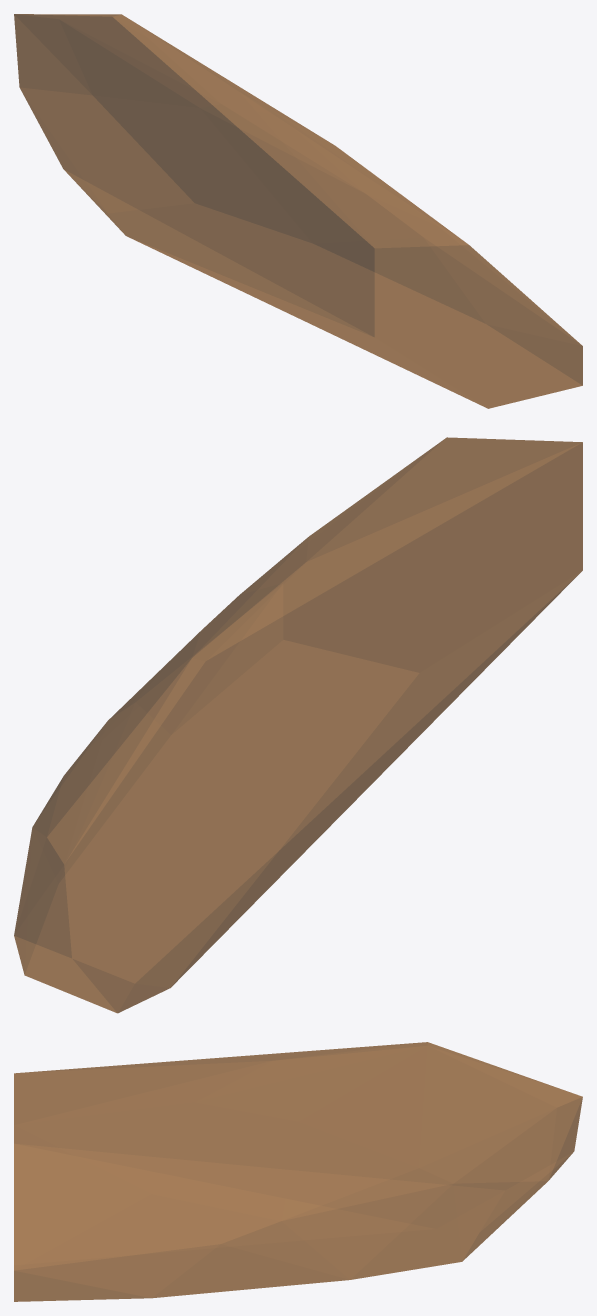
The picture shows the model from 3 angles, top to bottom: view 1: azimuth 30°, elevation 25°; view 2: azimuth 150°, elevation 25°; view 3: azimuth 270°, elevation 25°; orthographic projection. The views are drawn at different scales.
Parts seen in each view (by area): view 1: Shape_IndexedFaceSet.030_Shape_IndexedFaceSet.7636; view 2: Shape_IndexedFaceSet.030_Shape_IndexedFaceSet.7636; view 3: Shape_IndexedFaceSet.030_Shape_IndexedFaceSet.7636.
Part boxes in pixels (x1,y1,x2,y2): Shape_IndexedFaceSet.030_Shape_IndexedFaceSet.7636: [14, 14, 582, 408]; Shape_IndexedFaceSet.030_Shape_IndexedFaceSet.7636: [14, 437, 582, 1013]; Shape_IndexedFaceSet.030_Shape_IndexedFaceSet.7636: [14, 1042, 582, 1301].
Bounding box in the file's own units: 0.045 × 0.047 × 0.1349.
